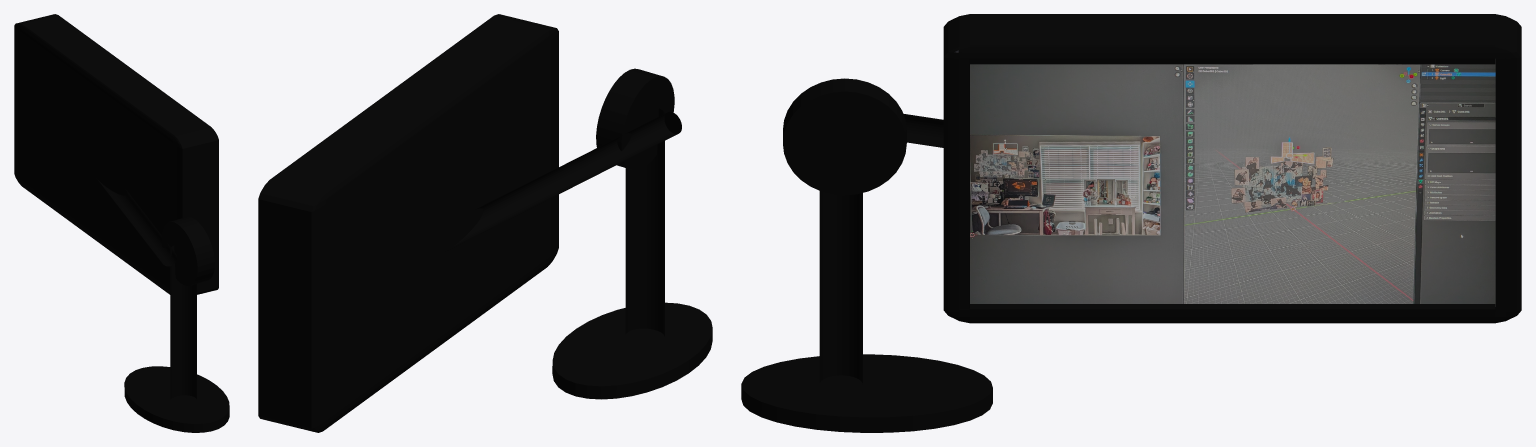
File: moniter.glb
3 renders of one model, left to right at view 1: azimuth 30°, elevation 25°; view 2: azimuth 150°, elevation 25°; view 3: azimuth 270°, elevation 25°, orthographic. The views are drawn at different scales.
Parts seen in each view (by area): view 1: Cube, Cylinder.003, Cylinder, Cylinder.002, Cylinder.001; view 2: Cube, Cylinder.003, Cylinder, Cylinder.001, Cylinder.002; view 3: Cube, Cylinder.003, Cylinder.002, Cylinder, Cylinder.001.
Part boxes in pixels (bbox=[...]): Cube: bbox=[14, 14, 218, 294]; Cylinder.003: bbox=[124, 366, 229, 432]; Cylinder: bbox=[170, 245, 196, 399]; Cylinder.002: bbox=[161, 216, 214, 285]; Cylinder.001: bbox=[97, 179, 177, 266]; Cube: bbox=[258, 14, 558, 432]; Cylinder.003: bbox=[552, 302, 712, 399]; Cylinder: bbox=[625, 108, 664, 336]; Cylinder.001: bbox=[445, 111, 681, 251]; Cylinder.002: bbox=[596, 68, 674, 170]; Cube: bbox=[943, 14, 1521, 323]; Cylinder.003: bbox=[741, 354, 992, 432]; Cylinder.002: bbox=[783, 78, 906, 195]; Cylinder: bbox=[819, 191, 862, 384]; Cylinder.001: bbox=[903, 113, 943, 147].
Bounding box in the file's own units: 1.36 × 2.96 × 5.07.
3 materials, 1 textured.
